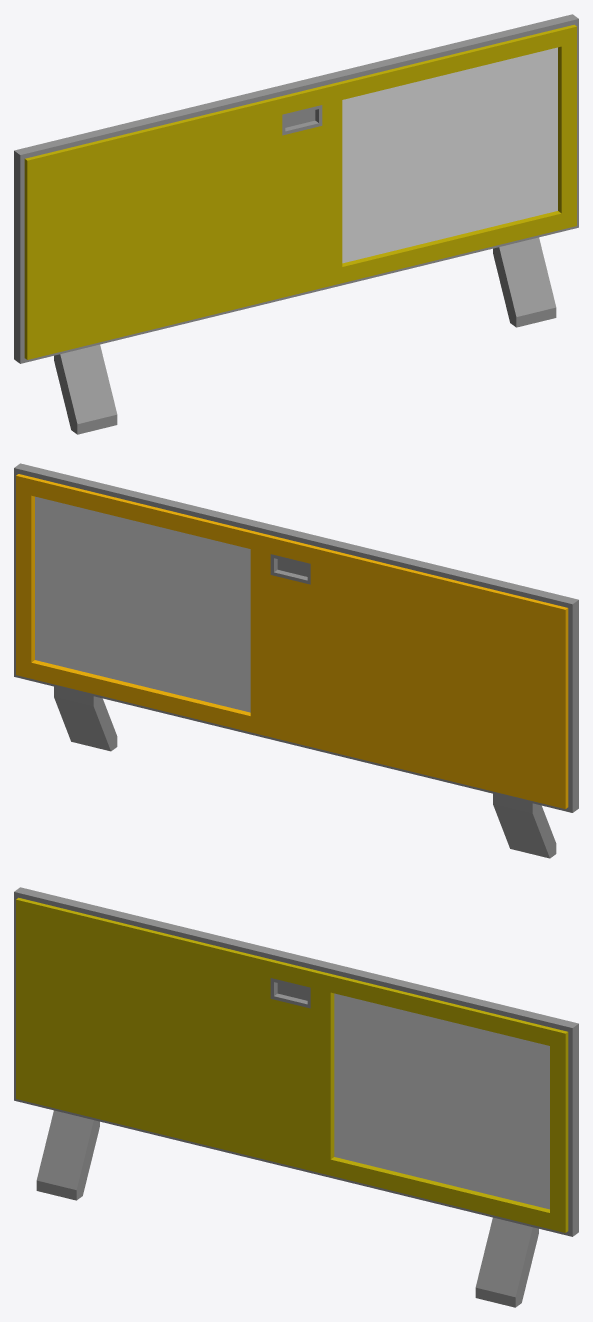
Rendered from door_manual_flush_inswing_window_7x3_dynamic.dae.
3 renders of one model, top to bottom at view 1: azimuth 30°, elevation 25°; view 2: azimuth 150°, elevation 25°; view 3: azimuth 330°, elevation 25°, orthographic.
Parts seen in each view (by area): view 1: Cube; view 2: Cube; view 3: Cube.
Part boxes in pixels (bbox=[...]): Cube: bbox=[14, 14, 578, 434]; Cube: bbox=[14, 463, 578, 858]; Cube: bbox=[14, 887, 578, 1307].
Bounding box in the file's own units: 1.75 × 0.1421 × 0.8281.
